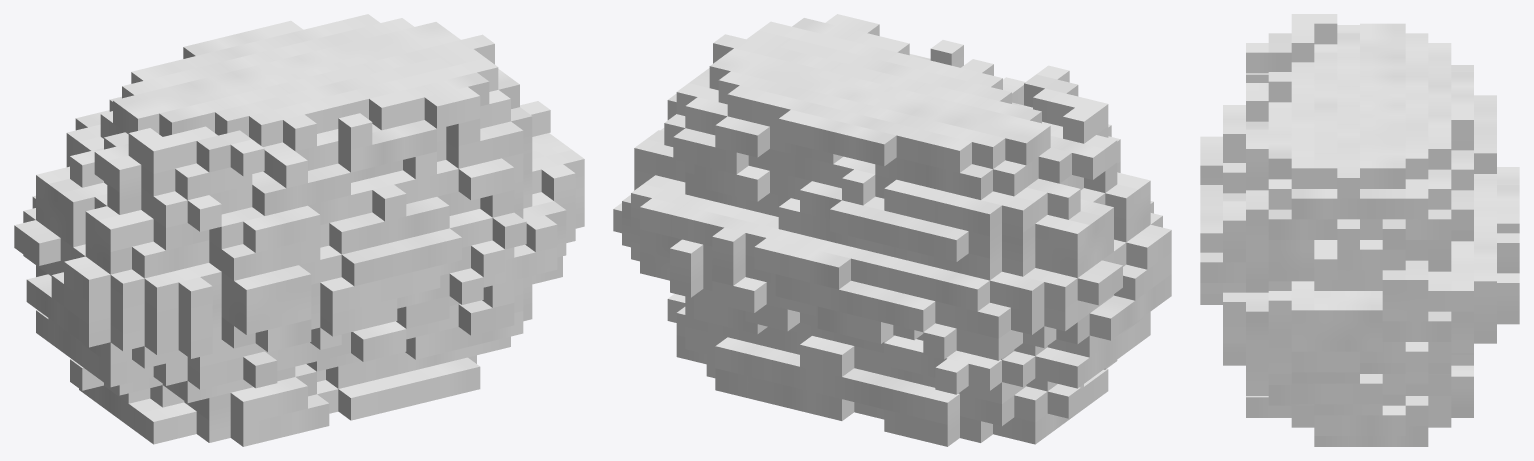
The model's file is Cloud.fbx.
3 renders of one model, left to right at view 1: azimuth 30°, elevation 25°; view 2: azimuth 150°, elevation 25°; view 3: azimuth 270°, elevation 25°, orthographic. The views are drawn at different scales.
Visible parts, largest first — view 1: Box; view 2: Box; view 3: Box.
Part boxes in pixels (bbox=[...]): Box: bbox=[14, 14, 584, 446]; Box: bbox=[613, 14, 1171, 446]; Box: bbox=[1200, 14, 1519, 446].
Size of the model in its own units: 23 by 13 by 14.
1 material, 1 textured.
